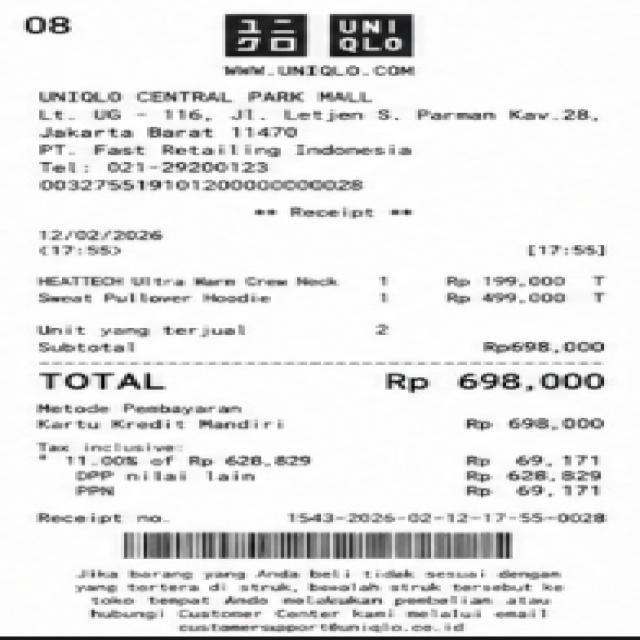date: (30, 225, 174, 262)
store: (218, 6, 421, 60), (28, 87, 381, 108)
total: (22, 367, 611, 398)
